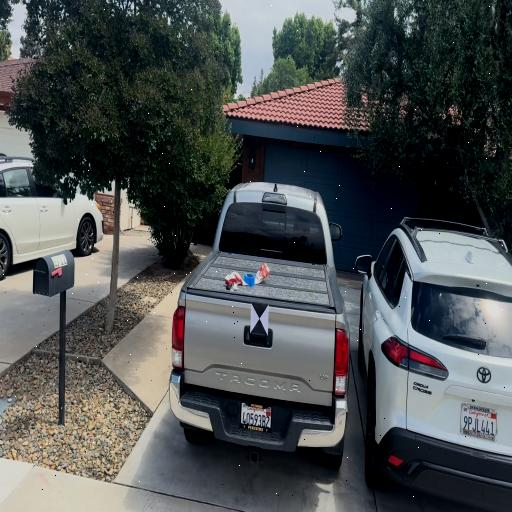target: (250, 303, 269, 336)
